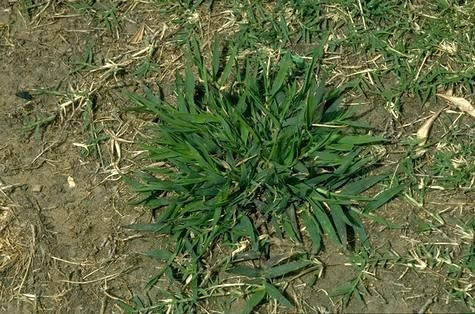crabgrass: (142, 53, 378, 283)
